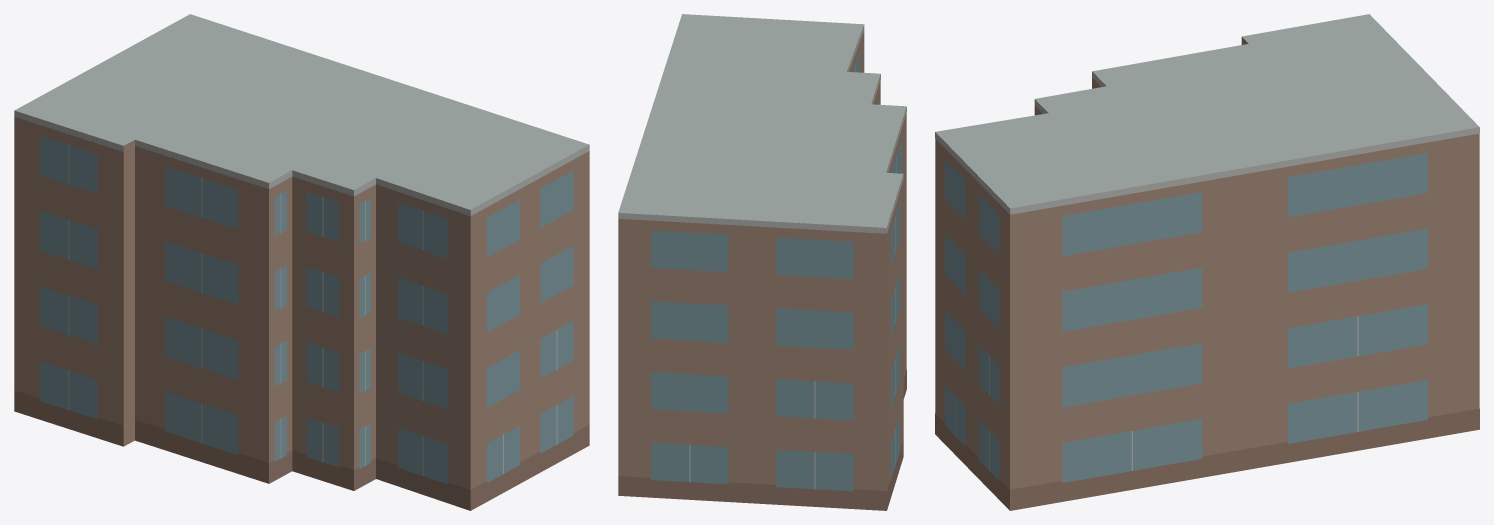
File: survey-upis-32716646.glb
3 views of the same model, side by side, from view 1: azimuth 30°, elevation 25°; view 2: azimuth 150°, elevation 25°; view 3: azimuth 270°, elevation 25° (orthographic). The views are drawn at different scales.
Visible parts, largest first — view 1: survey-upis-32716646.tmp; view 2: survey-upis-32716646.tmp; view 3: survey-upis-32716646.tmp.
Boxes of the visible parts, x1,y1,x2,y2 form: survey-upis-32716646.tmp: (14,14,589,510); survey-upis-32716646.tmp: (618,14,906,510); survey-upis-32716646.tmp: (935,14,1479,510).
Size of the model in its own units: 16.29 by 11.8 by 19.27.
